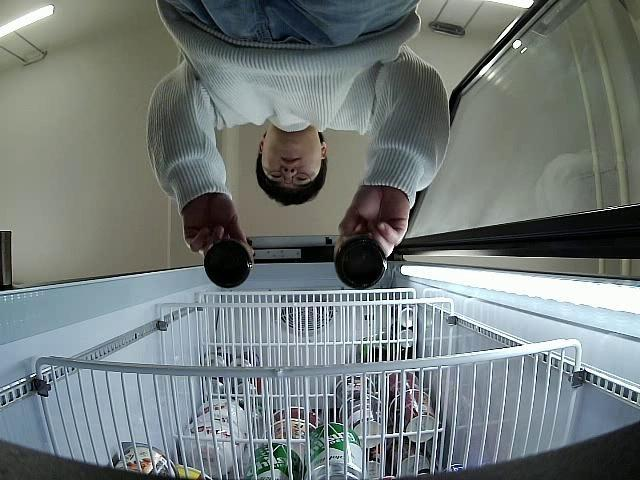17_vita500: (332, 236, 388, 287), (205, 238, 254, 288)
